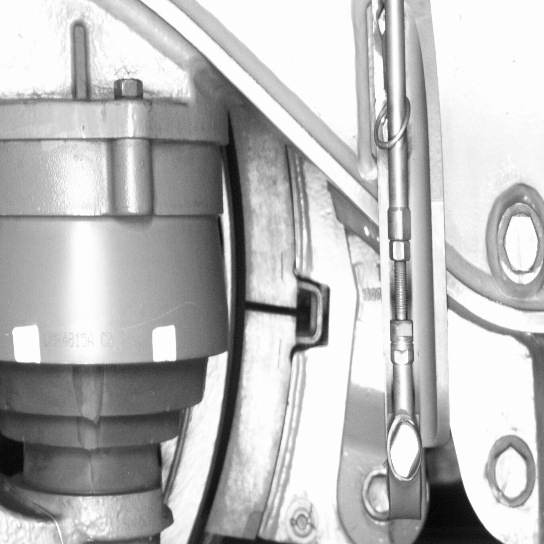KnifeSwitch: (184, 140, 315, 541)
